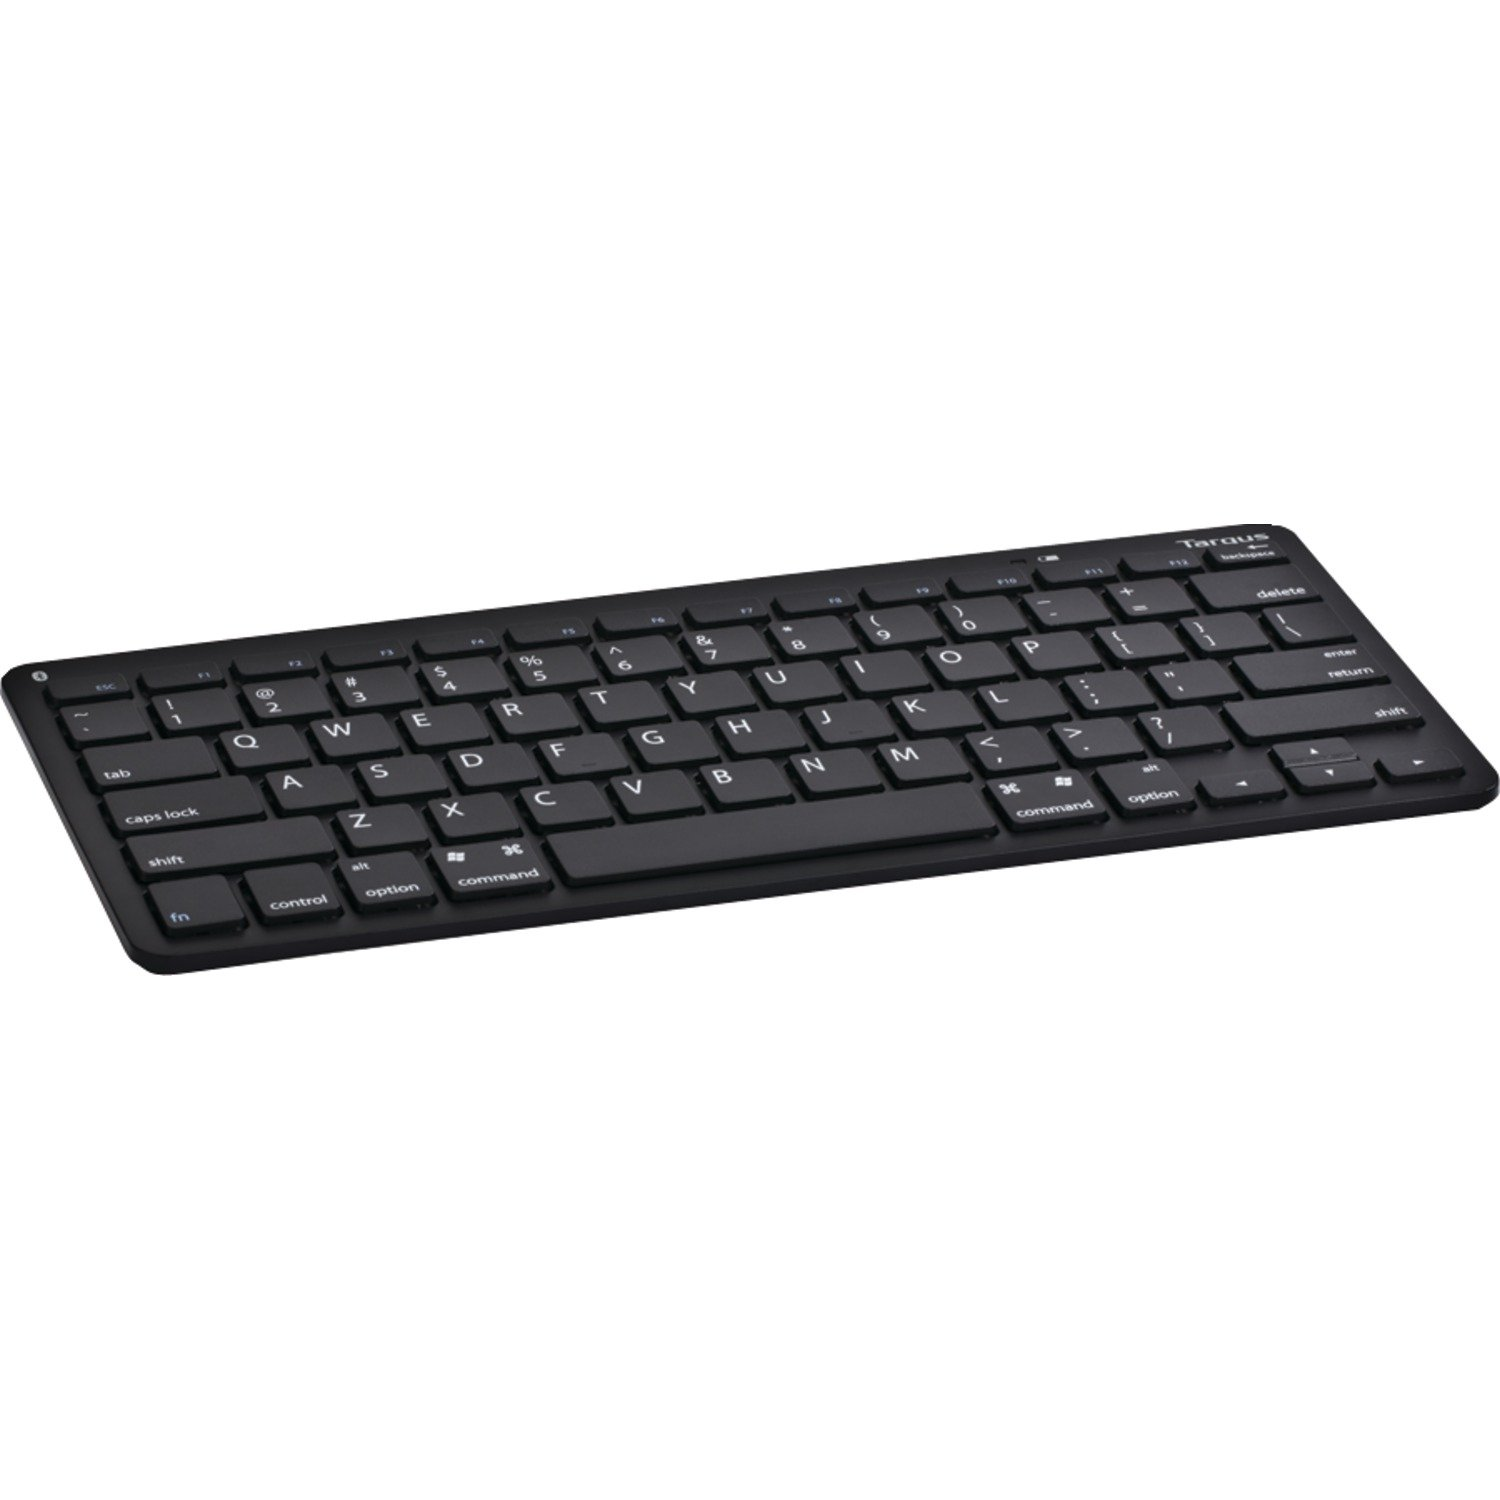keyboard: (1, 499, 1499, 988)
